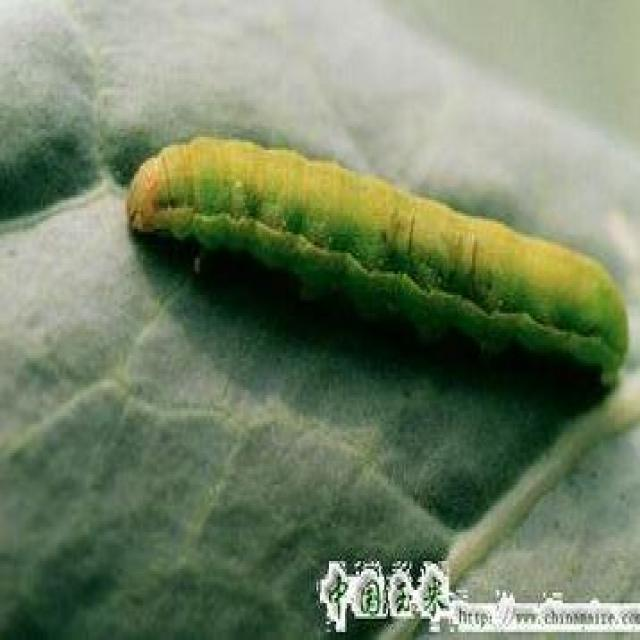BeetArmyWorm-Larva-: (104, 116, 632, 388)
